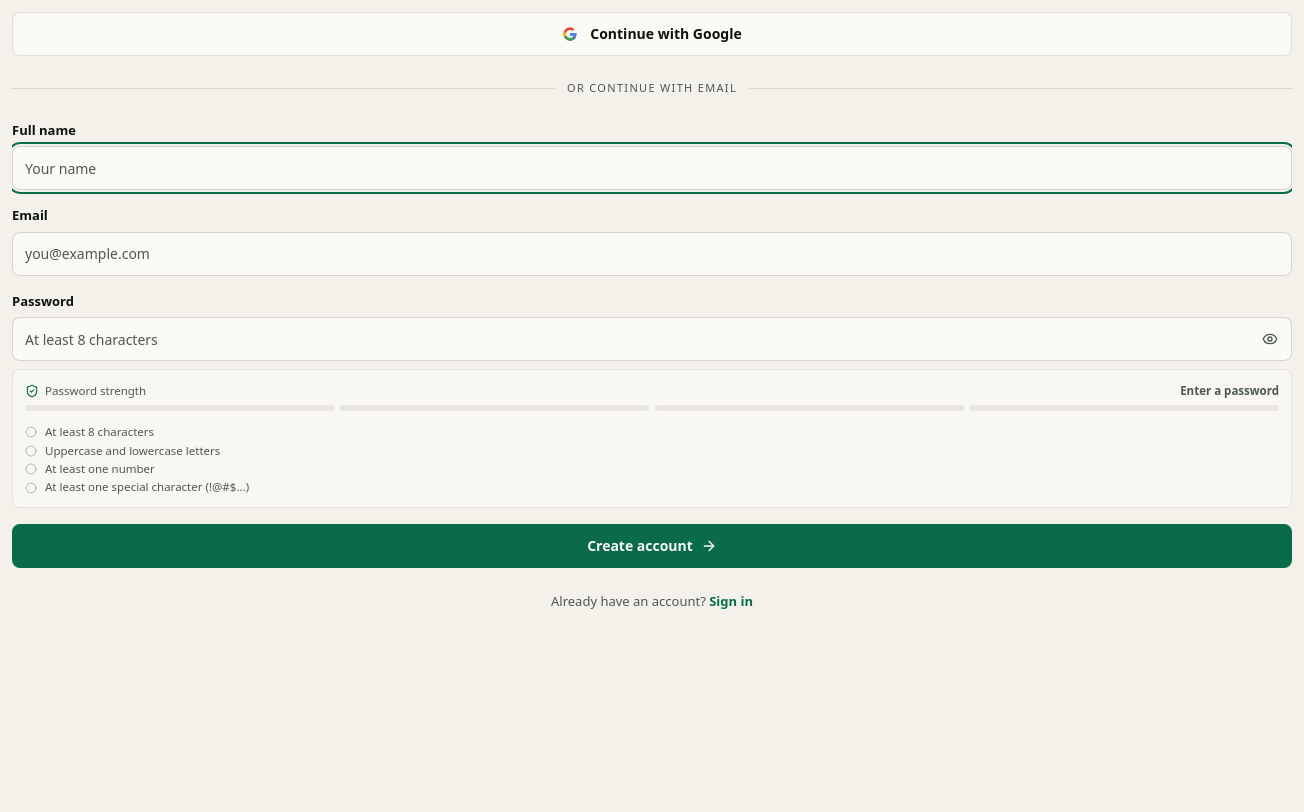
Test: AuthForm Component (covers: Hardening Zod Password & Email UI) › blocks signup submission client-side when password does not meet requirements
Type "Alex Morgan" into the field labelled "Full name" at (652, 168), box [12,146,1292,190]
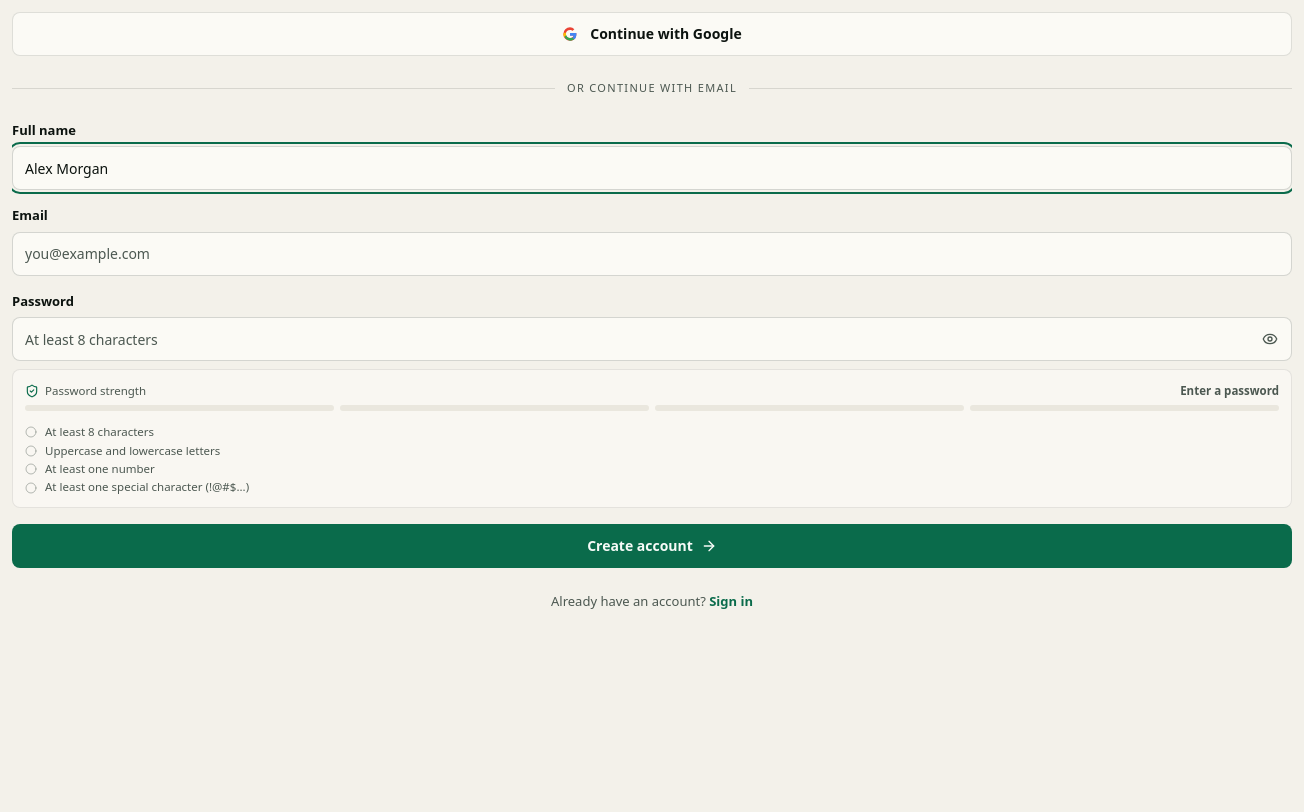
Type "alex@example.com" into the field labelled "Email" at (652, 254), box [12,232,1292,276]
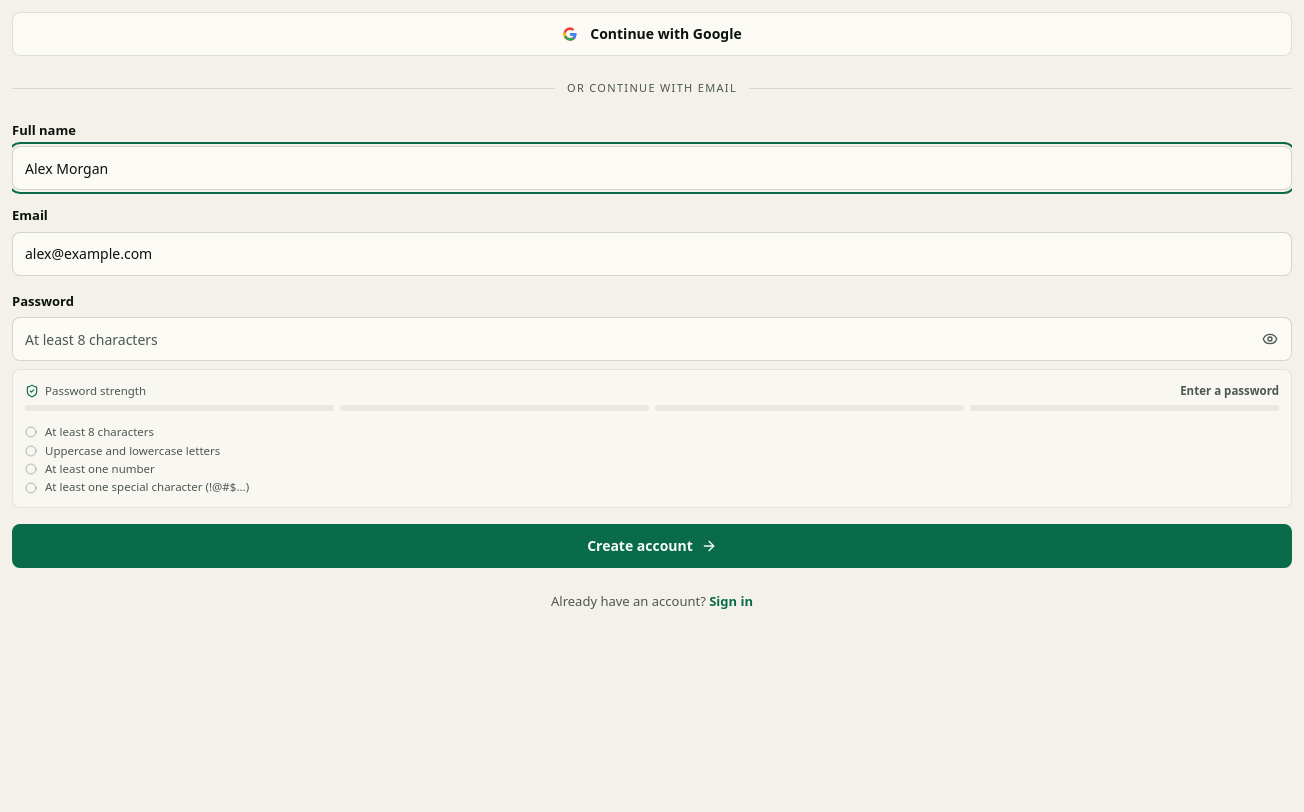
Type "short" into the password field labelled "Password" at (652, 339), box [12,317,1292,361]
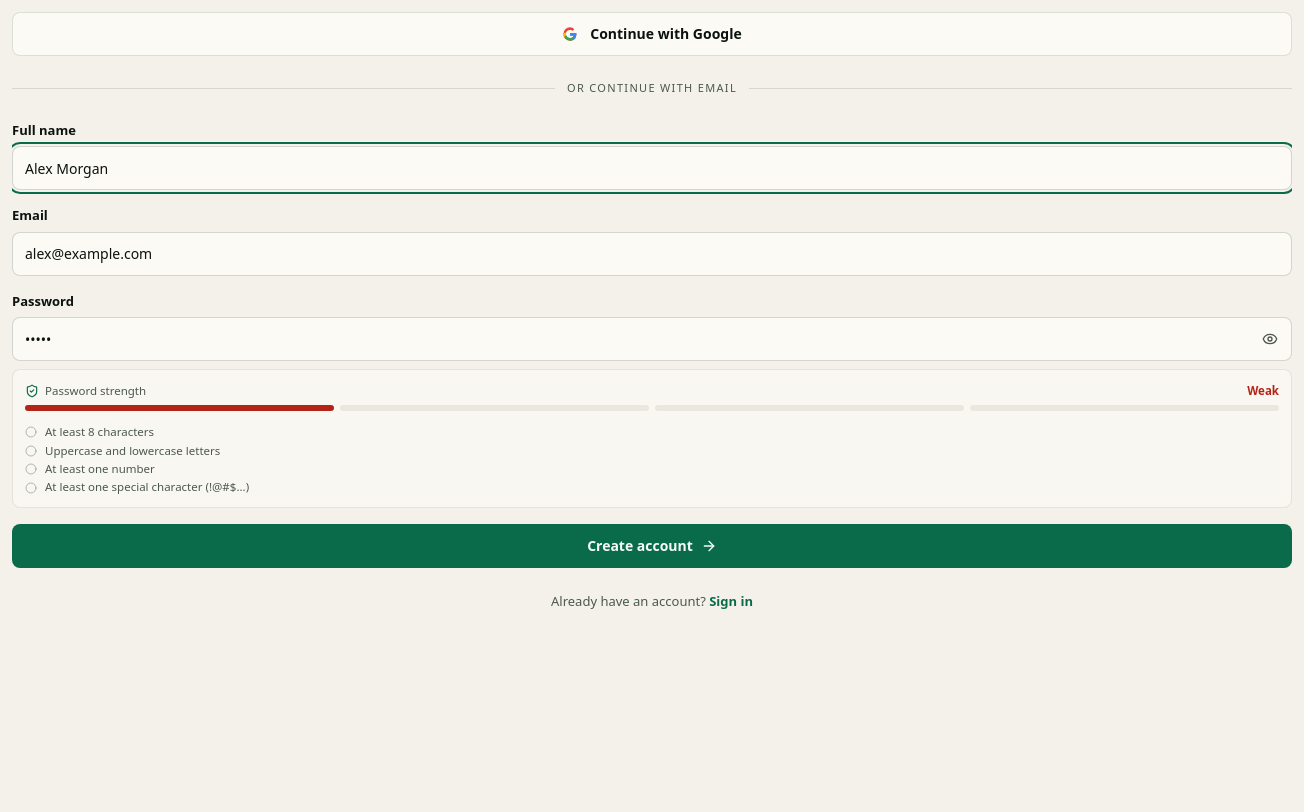
Click the button "Create account" at (652, 546), box [12,524,1292,568]
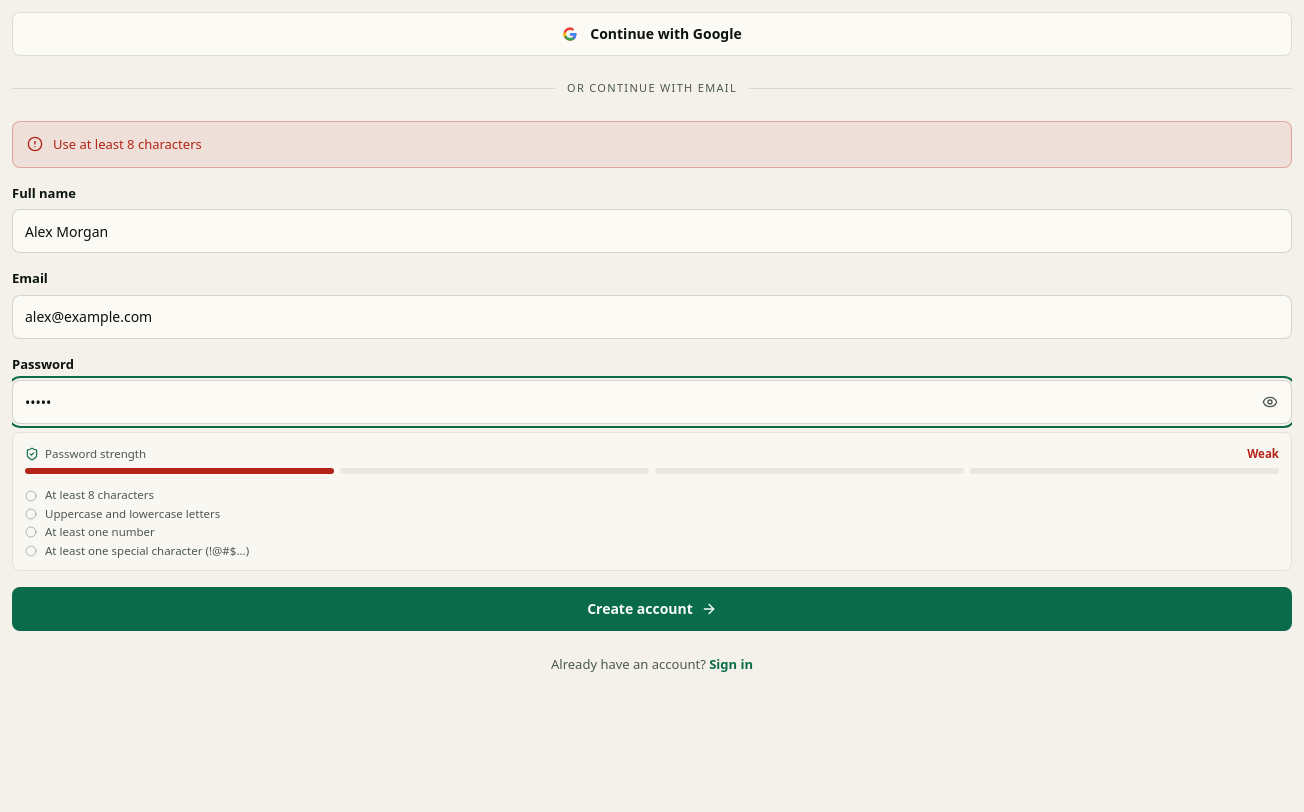
Expected: the message "Use at least 8 characters" is shown, [12,120,1292,168]
